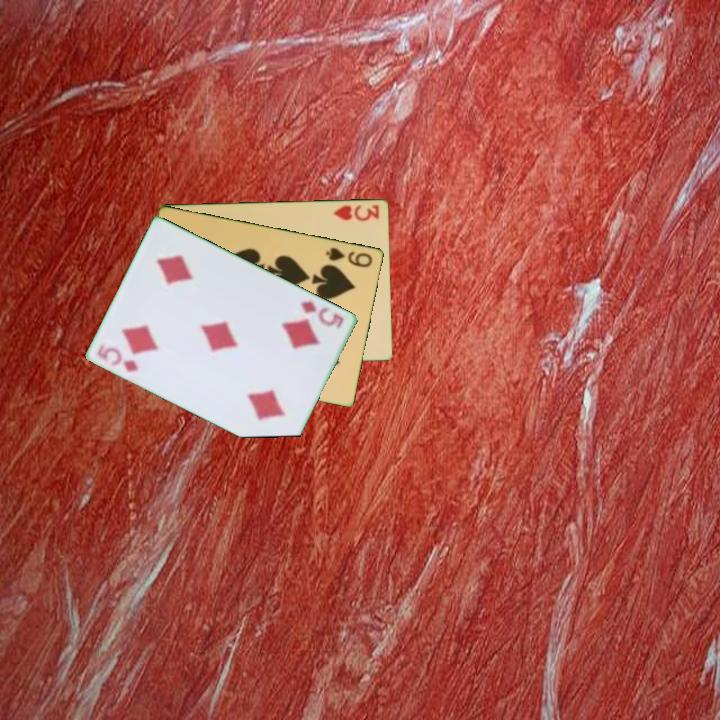3h: (330, 201, 382, 224)
5d: (297, 297, 347, 332), (94, 341, 142, 375)
9s: (323, 243, 376, 270)
